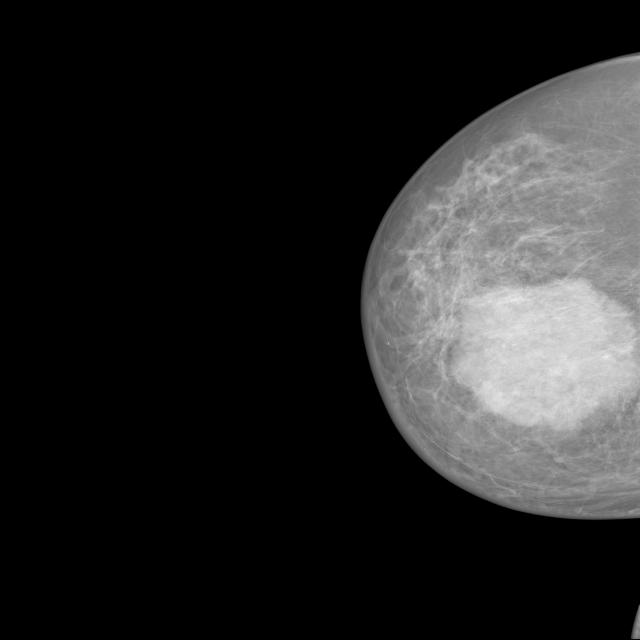Mass_1: (413, 249, 640, 460)
